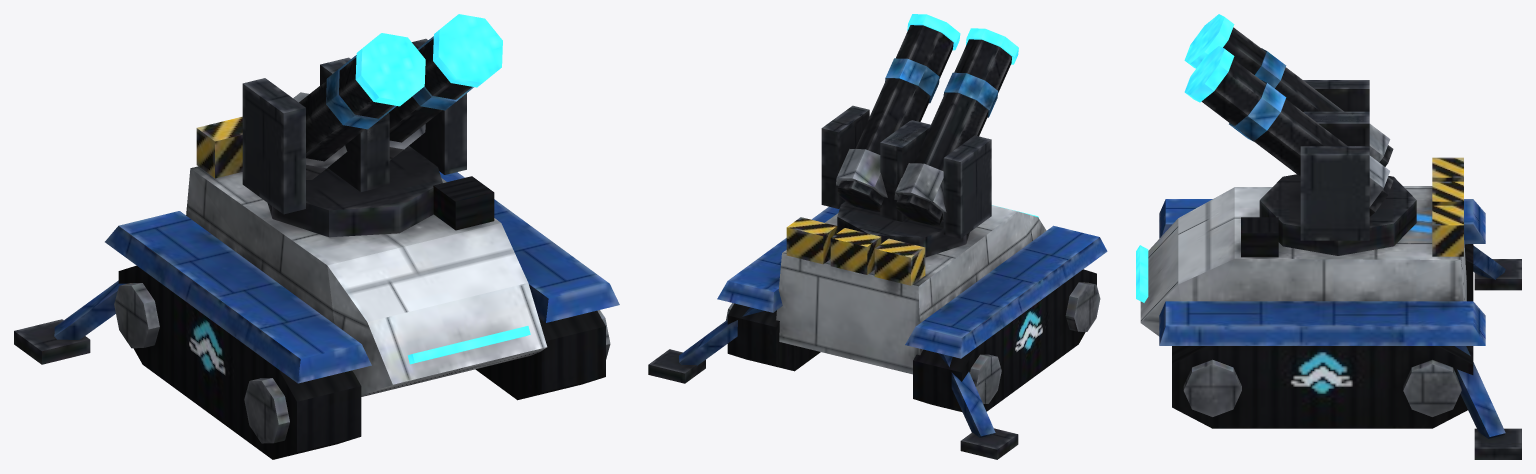
File: u_mortar2_w.glb
3 renders of one model, left to right at view 1: azimuth 30°, elevation 25°; view 2: azimuth 150°, elevation 25°; view 3: azimuth 270°, elevation 25°, orthographic. The views are drawn at different scales.
Parts seen in each view (by area): view 1: u_mortar2_w; view 2: u_mortar2_w; view 3: u_mortar2_w.
Boxes of the visible parts, x1=… form: u_mortar2_w: x1=14, y1=14, x2=619, y2=459; u_mortar2_w: x1=648, y1=14, x2=1107, y2=459; u_mortar2_w: x1=1136, y1=14, x2=1521, y2=459.
Size of the model in its own units: 1.6 by 1.31 by 1.38.
1 material, 1 textured.
